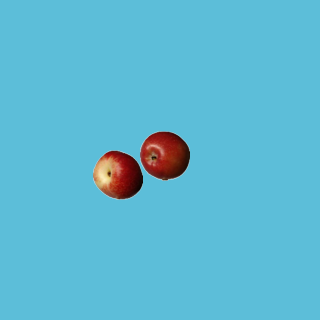Apple Braeburn: (139, 130, 189, 180)
Nectarine: (92, 149, 142, 199)
